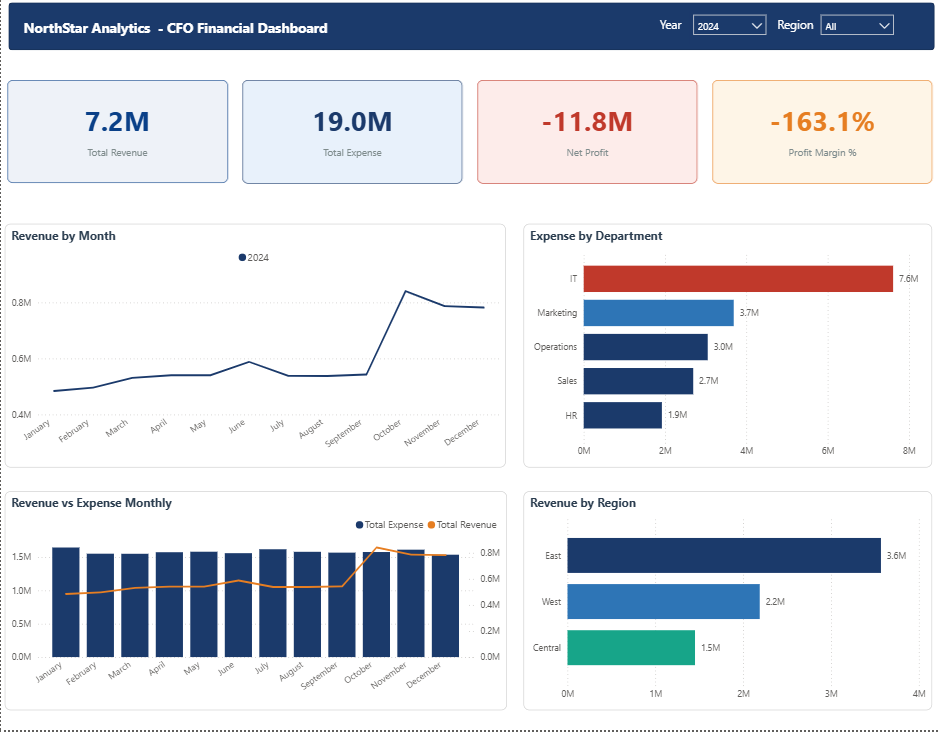

The dashboard page shown, as its layout file describes it:
{"tool":"powerbi","page":{"name":"Executive Summary","canvas":[1280,1000],"ordinal":0},"visuals":[{"type":"shape","box":[9.8,11,1258.3,64.8],"z":0},{"type":"textbox","box":[25.7,26.9,441.4,40.4],"z":1000},{"type":"slicer","fields":{"Values":["production dim_date.year"]},"box":[935.5,22,108.8,44],"z":2000},{"type":"textbox","box":[890.2,24.5,62.4,33],"z":3000},{"type":"slicer","fields":{"Values":["production dim_region.region_name"]},"box":[1109.1,22,108.8,44],"z":4000},{"type":"textbox","box":[1049.2,24.5,62.4,33],"z":5000},{"type":"advanceCardE03760C5AB684758B56AA29F9E6C257B","fields":{"mainMeasure":["_Measures.Total Revenue"]},"box":[8.4,116,300,140],"z":6000},{"type":"advanceCardE03760C5AB684758B56AA29F9E6C257B","fields":{"mainMeasure":["_Measures.Total Expense"]},"box":[328.3,116,299.6,140.6],"z":7000},{"type":"advanceCardE03760C5AB684758B56AA29F9E6C257B","fields":{"mainMeasure":["_Measures.Net Profit"]},"box":[647.7,116,299.6,140.6],"z":8000},{"type":"advanceCardE03760C5AB684758B56AA29F9E6C257B","fields":{"mainMeasure":["_Measures.Profit Margin %"]},"box":[967.1,116,299.6,140.6],"z":9000},{"type":"lineChart","title":"Revenue by Month","fields":{"Category":["production dim_date.month_name"],"Y":["_Measures.Total Revenue"],"Series":["production dim_date.year"]},"box":[5.1,310.8,681,331.2],"z":10000},{"type":"clusteredBarChart","title":"Expense by Department","fields":{"Category":["production dim_department.dept_name"],"Y":["_Measures.Total Expense"]},"box":[709.9,310.8,555.4,331.2],"z":11000},{"type":"lineStackedColumnComboChart","title":"Revenue vs Expense Monthly","fields":{"Category":["production dim_date.month_name"],"Y":["_Measures.Total Expense"],"Y2":["_Measures.Total Revenue"]},"box":[5.1,673.9,682.7,297.2],"z":12000},{"type":"clusteredBarChart","title":" Revenue by Region","fields":{"Category":["production dim_region.region_name"],"Y":["_Measures.Total Revenue"]},"box":[709.9,673.9,555.4,297.2],"z":13000}]}

Visuals, with their boxes in screenshot pixels (x1, y1, x2, y2), scaled from the page's 1280x1000 canvas onto the 940x732 screenshot:
shape: locate(7, 8, 931, 55)
textbox: locate(19, 20, 343, 49)
slicer - production dim_date.year: locate(687, 16, 767, 48)
textbox: locate(654, 18, 700, 42)
slicer - production dim_region.region_name: locate(814, 16, 894, 48)
textbox: locate(771, 18, 816, 42)
advanceCardE03760C5AB684758B56AA29F9E6C257B - _Measures.Total Revenue: locate(6, 85, 226, 187)
advanceCardE03760C5AB684758B56AA29F9E6C257B - _Measures.Total Expense: locate(241, 85, 461, 188)
advanceCardE03760C5AB684758B56AA29F9E6C257B - _Measures.Net Profit: locate(476, 85, 696, 188)
advanceCardE03760C5AB684758B56AA29F9E6C257B - _Measures.Profit Margin %: locate(710, 85, 930, 188)
"Revenue by Month" lineChart: locate(4, 228, 504, 470)
"Expense by Department" clusteredBarChart: locate(521, 228, 929, 470)
"Revenue vs Expense Monthly" lineStackedColumnComboChart: locate(4, 493, 505, 711)
" Revenue by Region" clusteredBarChart: locate(521, 493, 929, 711)
